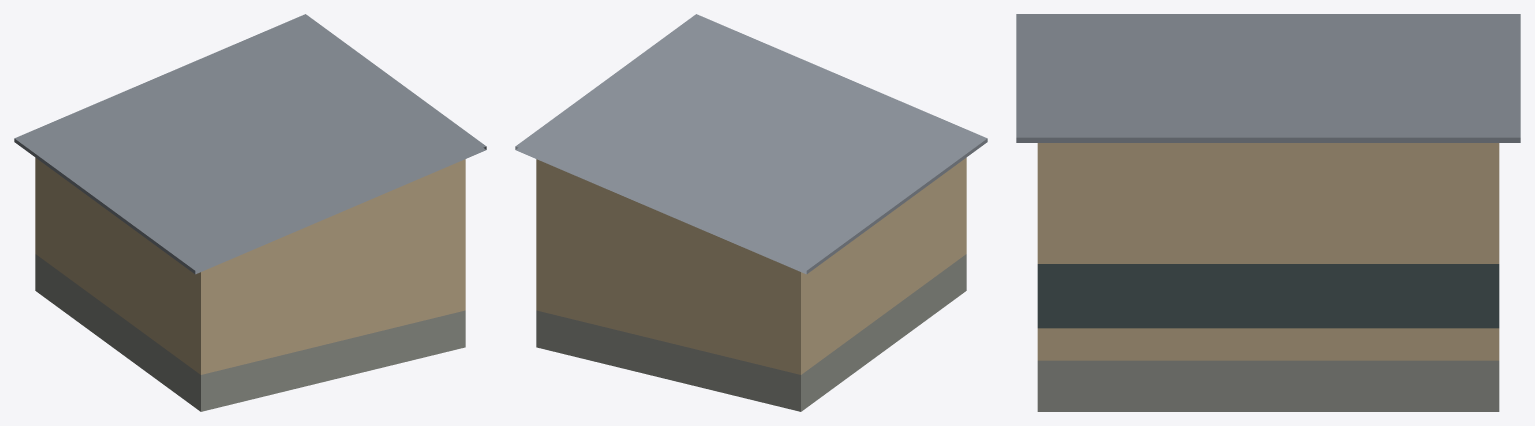
Rendered from mashup-hut_cedar-far.fbx.
The picture shows the model from 3 angles, left to right: view 1: azimuth 30°, elevation 25°; view 2: azimuth 150°, elevation 25°; view 3: azimuth 270°, elevation 25°; orthographic projection. The views are drawn at different scales.
Visible parts, largest first — view 1: a2015.hut_cedar.far; view 2: a2015.hut_cedar.far; view 3: a2015.hut_cedar.far.
Part boxes in pixels (<box>): a2015.hut_cedar.far: <box>14,14,486,411</box>; a2015.hut_cedar.far: <box>515,14,987,411</box>; a2015.hut_cedar.far: <box>1016,14,1520,411</box>.
Bounding box in the file's own units: 6.6 × 4.4 × 7.1.
